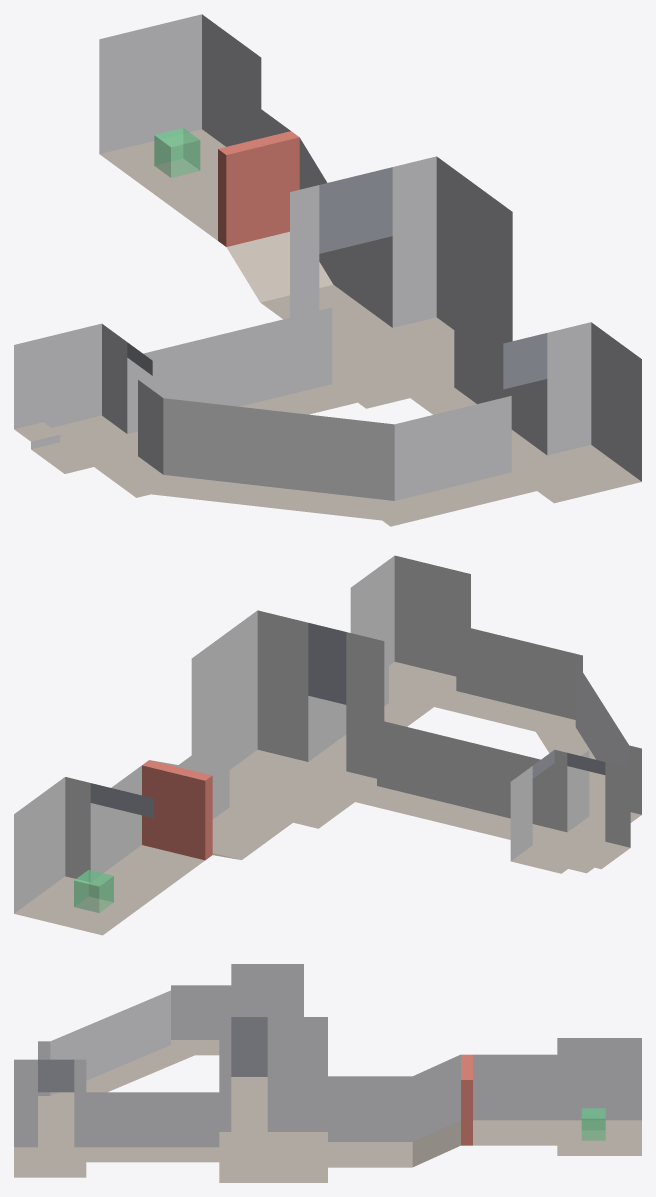
The model's file is habitat_03.glb.
3 renders of one model, top to bottom at view 1: azimuth 30°, elevation 25°; view 2: azimuth 150°, elevation 25°; view 3: azimuth 270°, elevation 25°, orthographic. The views are drawn at different scales.
Parts seen in each view (by area): view 1: corridor:3, room:1, room:2, room:0, corridor:2, room:3, corridor:1, entities, corridor:0; view 2: room:1, corridor:3, corridor:2, room:2, room:0, corridor:1, room:3, entities, corridor:0; view 3: corridor:1, room:1, corridor:3, room:2, corridor:0, room:0, room:3, corridor:2, entities.
Part boxes in pixels (left/top/right/bottom): corridor:3: left=94, top=380, right=536, bottom=526; room:1: left=290, top=156, right=512, bottom=408; room:2: left=99, top=14, right=261, bottom=197; room:0: left=503, top=322, right=641, bottom=503; corridor:2: left=127, top=307, right=357, bottom=441; room:3: left=14, top=323, right=152, bottom=473; corridor:1: left=159, top=88, right=392, bottom=342; entities: left=154, top=128, right=299, bottom=246; corridor:0: left=410, top=311, right=547, bottom=463; room:1: left=191, top=610, right=384, bottom=828; corridor:3: left=435, top=624, right=641, bottom=841; corridor:2: left=355, top=719, right=554, bottom=844; room:2: left=14, top=777, right=153, bottom=935; room:0: left=350, top=555, right=470, bottom=712; corridor:1: left=90, top=728, right=292, bottom=897; room:3: left=510, top=749, right=630, bottom=873; entities: left=74, top=760, right=212, bottom=912; corridor:0: left=308, top=637, right=426, bottom=770; corridor:1: left=328, top=1054, right=557, bottom=1167; room:1: left=219, top=1017, right=327, bottom=1182; corridor:3: left=38, top=985, right=231, bottom=1147; room:2: left=557, top=1038, right=641, bottom=1155; corridor:0: left=86, top=1092, right=219, bottom=1162; room:0: left=14, top=1059, right=86, bottom=1177; room:3: left=231, top=964, right=303, bottom=1016; corridor:2: left=231, top=1077, right=267, bottom=1131; entities: left=461, top=1054, right=605, bottom=1145.
Bounding box in the file's own units: 30 × 10.5 × 52.
